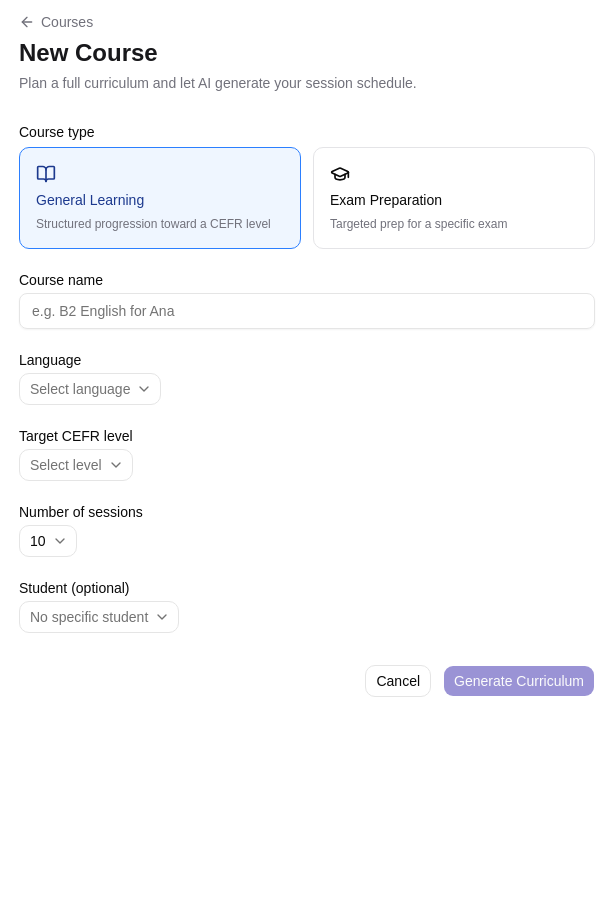
Test: CourseNew wizard › student profile summary › hides profile summary card when no student is selected
Click the dropdown with test id "student-select" at (99, 617), box [19,601,179,633]
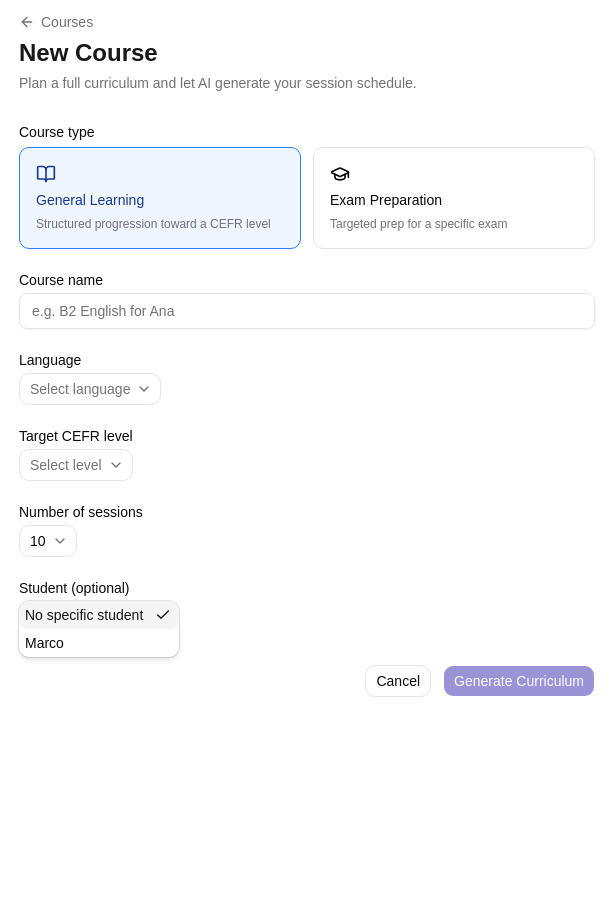
Click the option "Marco" at (44, 643), box [25,635,64,651]
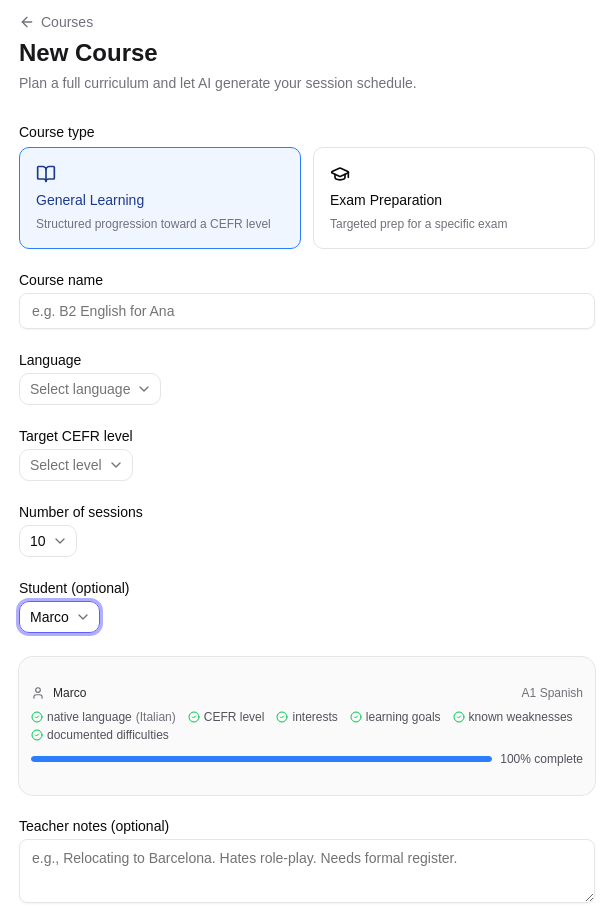
Now the element with test id "student-profile-summary" is shown, box [19,657,595,795]
Click the dropdown with test id "student-select" at (59, 617), box [19,601,100,633]
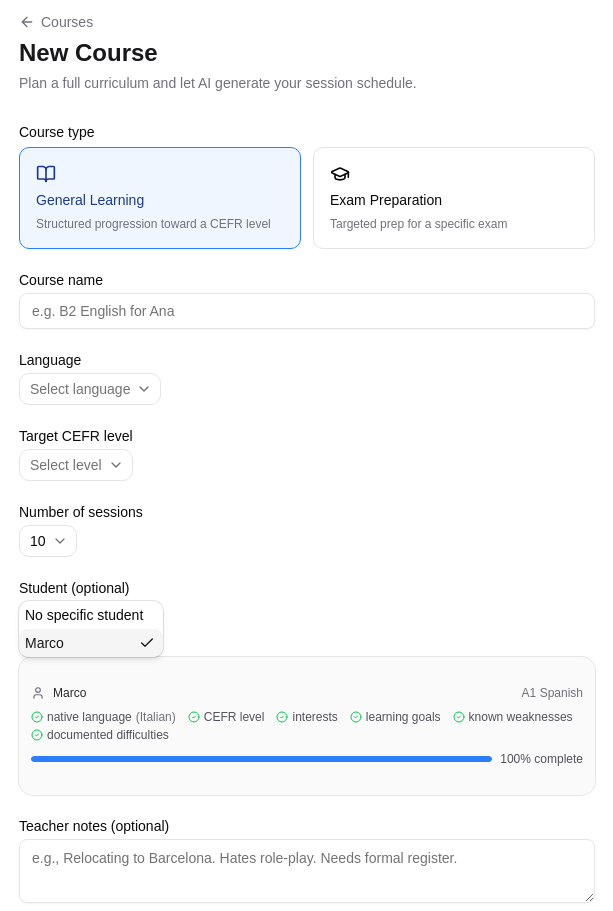
Click the option "No specific student" at (84, 615), box [25,607,143,623]
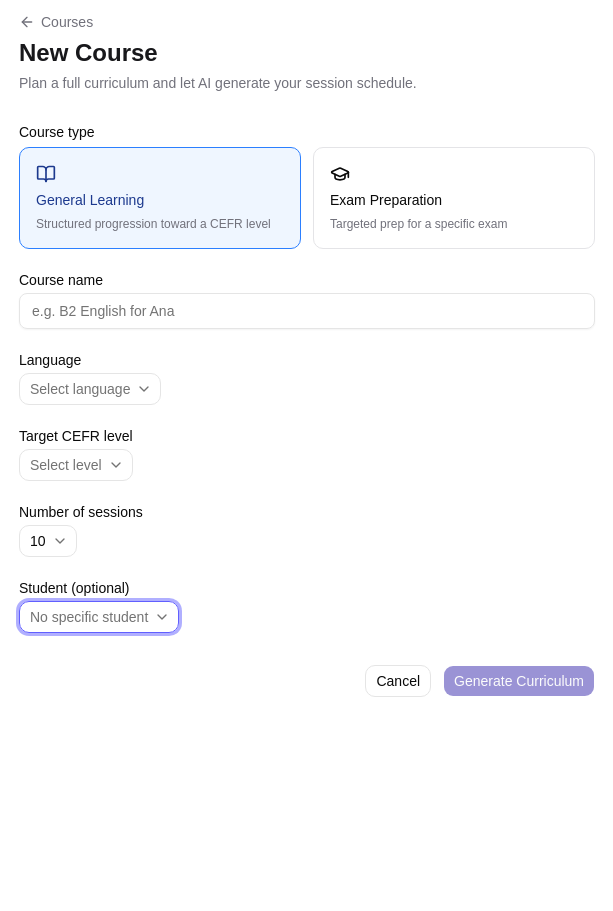
Now the element with test id "student-profile-summary" is gone
